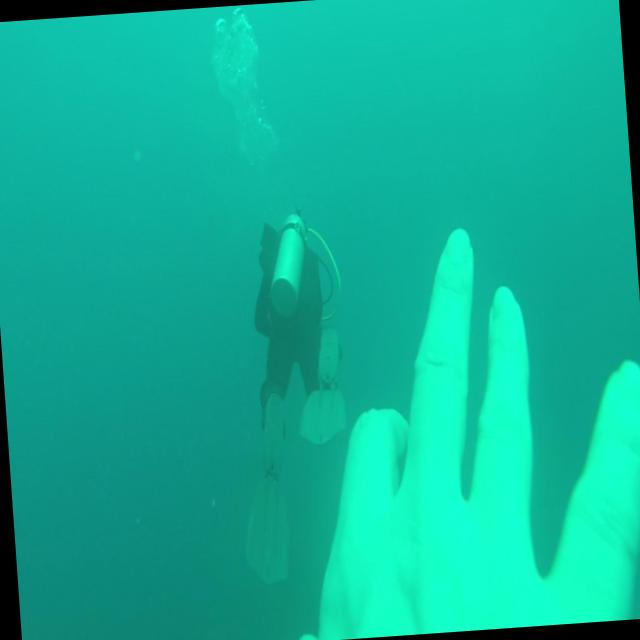human: (221, 206, 361, 586)
